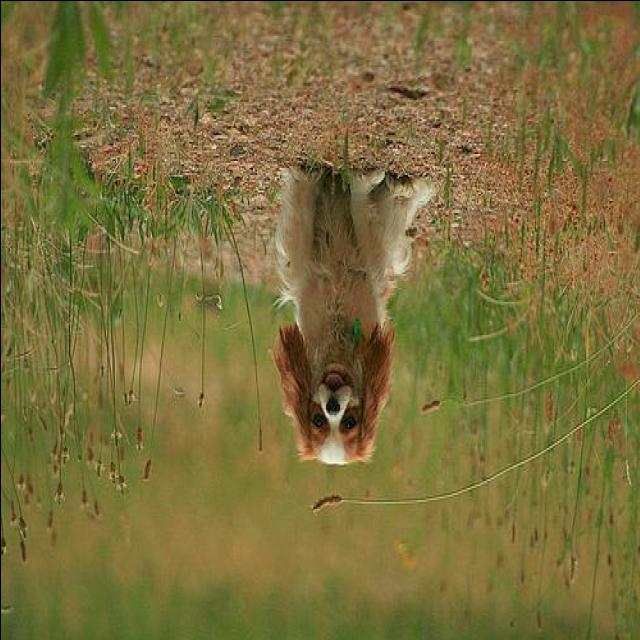blenheim_spaniel: (272, 156, 436, 468)
